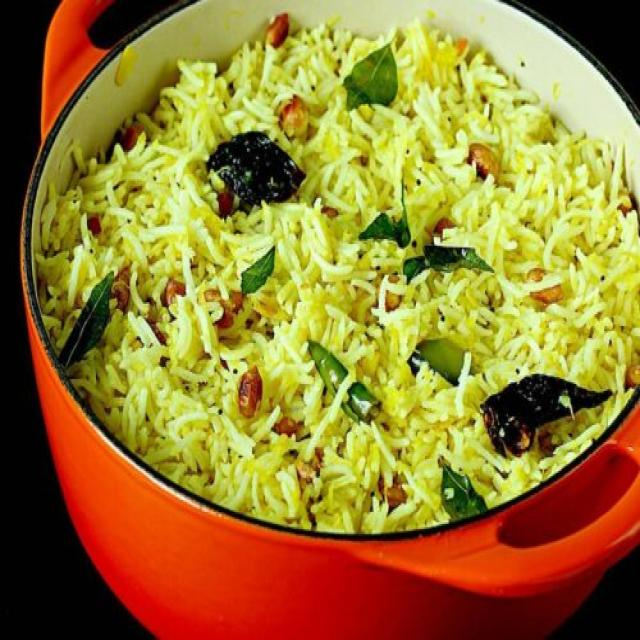lemon rice: (22, 0, 640, 548)
